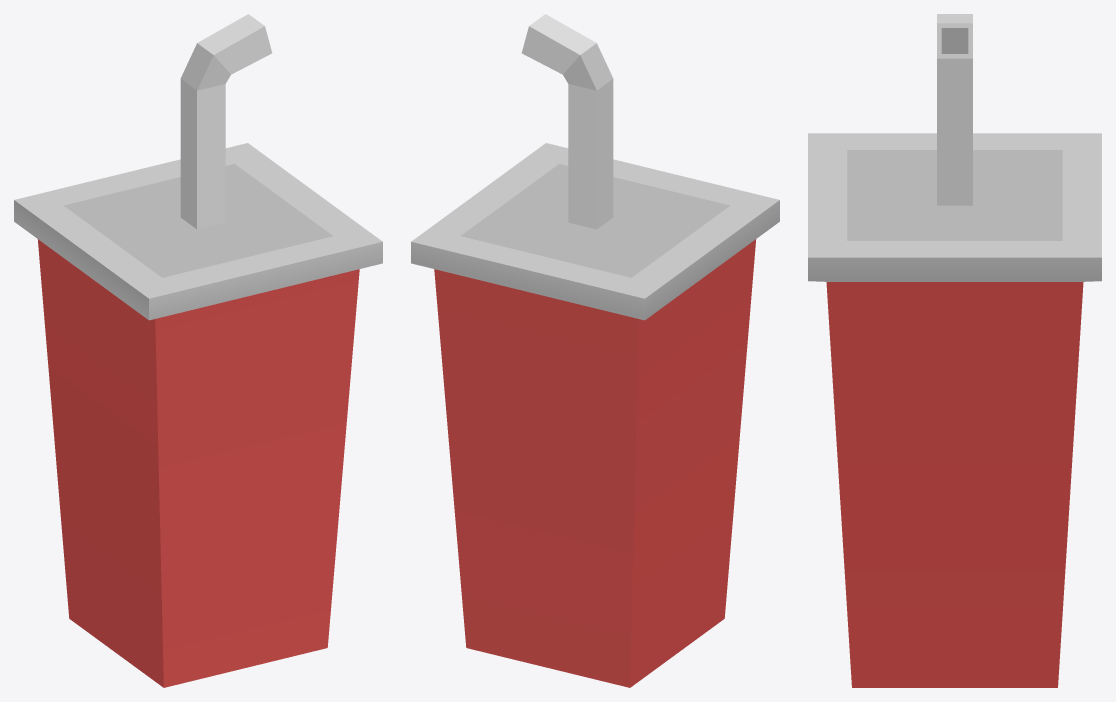
Rendered from Drink.glb.
3 views of the same model, side by side, from view 1: azimuth 30°, elevation 25°; view 2: azimuth 150°, elevation 25°; view 3: azimuth 270°, elevation 25° (orthographic). The views are drawn at different scales.
Visible parts, largest first — view 1: SI_Food_Drink; view 2: SI_Food_Drink; view 3: SI_Food_Drink.
Boxes of the visible parts, x1=… form: SI_Food_Drink: x1=14, y1=14, x2=382, y2=687; SI_Food_Drink: x1=411, y1=14, x2=779, y2=687; SI_Food_Drink: x1=808, y1=14, x2=1101, y2=687.
Bounding box in the file's own units: 0.00275 × 0.00673 × 0.00275.
Materials: 1 (1 with a texture image).
